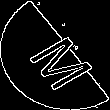M_NE: (16, 22, 94, 88)
